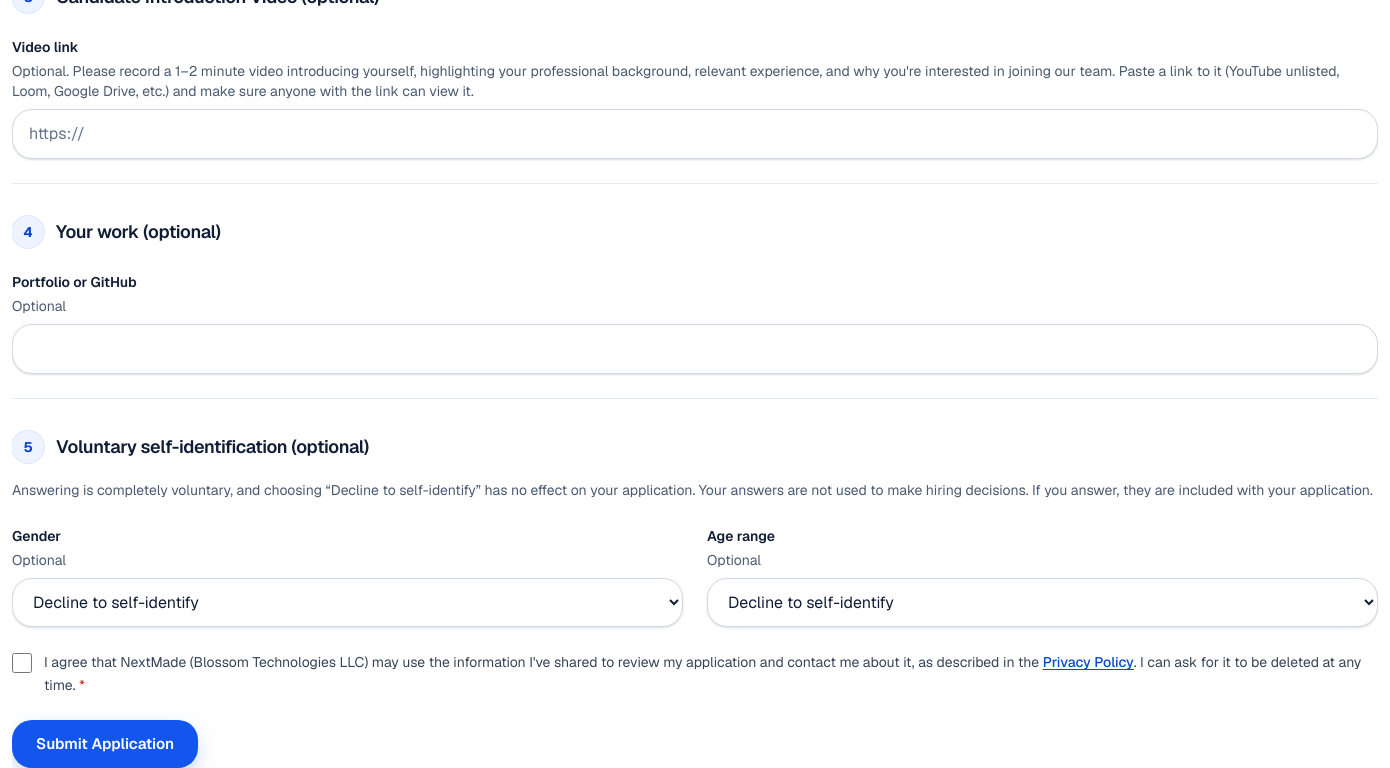
Test: CandidateApplicationForm › requires a résumé, offers an optional video link with the recording guidance, and no written introduction
(page scrolled)
Expected: the text "Please record a 1–2 minute video introducing yourself" is shown, [12, 62, 1339, 100]
Expected: the dropdown labelled "Gender" shows "Decline to self-identify", [12, 578, 683, 627]
Click the button "Submit Application": x=105, y=744 [12, 720, 198, 767]
(page scrolled)
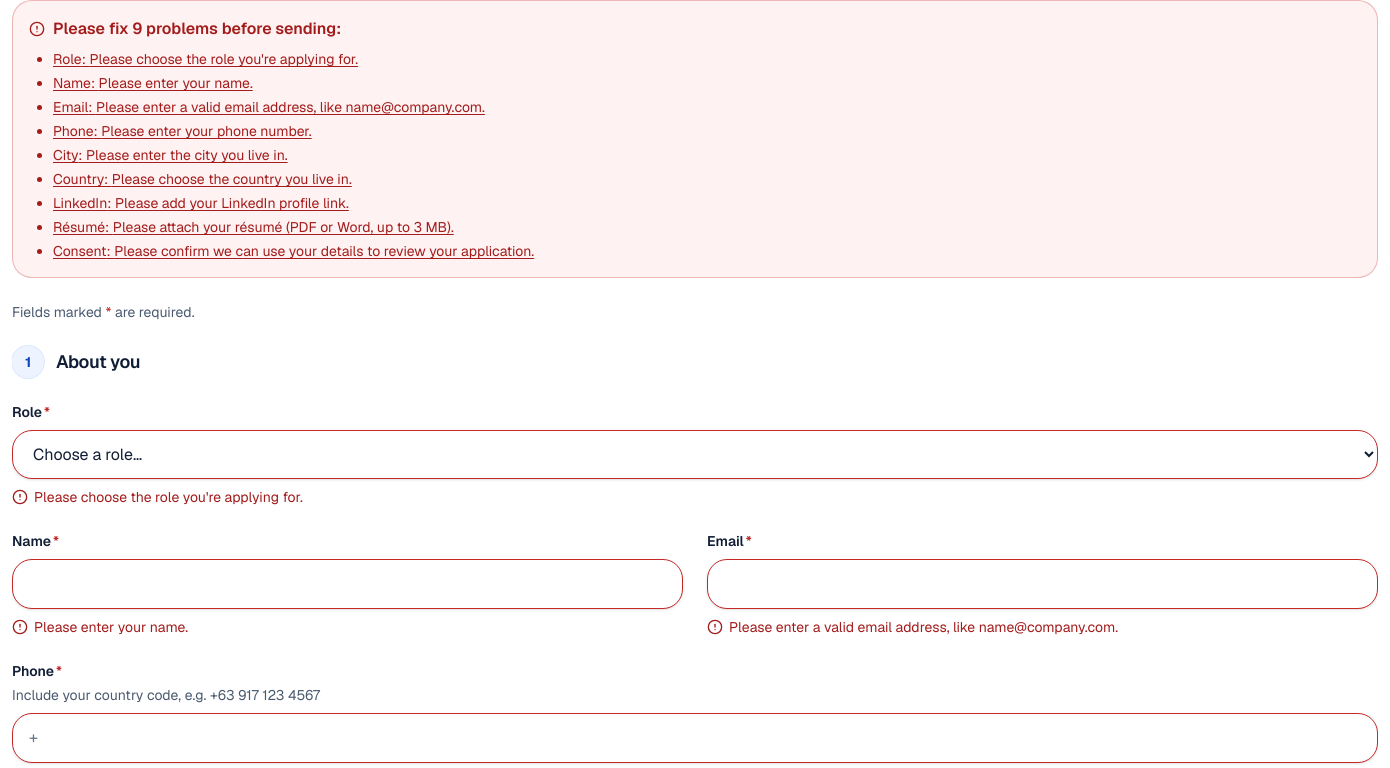
Expected: the message does not show "candidate introduction video", [12, 0, 1378, 278]
Result: the message shows "résumé" at [53, 218, 454, 236]
